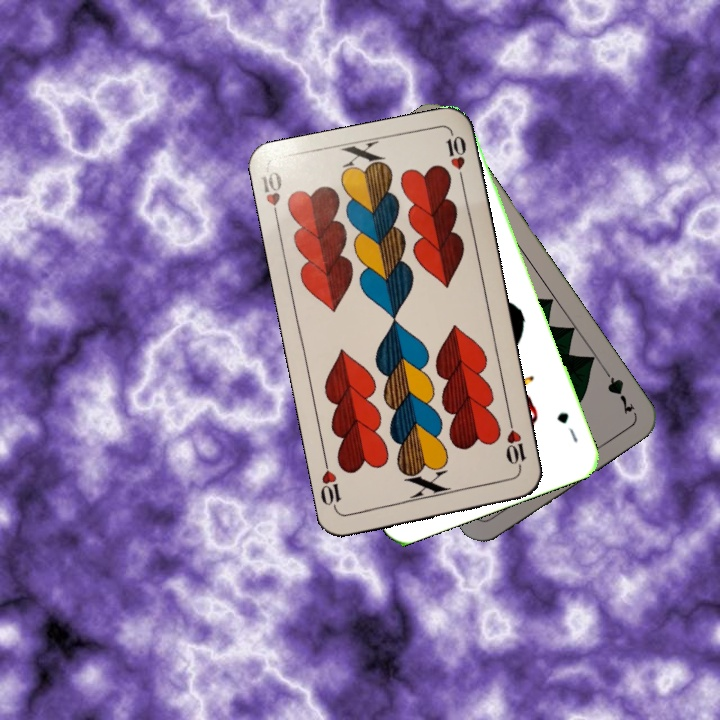G7: (597, 363, 637, 418)
GU: (553, 408, 581, 445)
H10: (258, 167, 287, 227), (502, 415, 528, 474)
